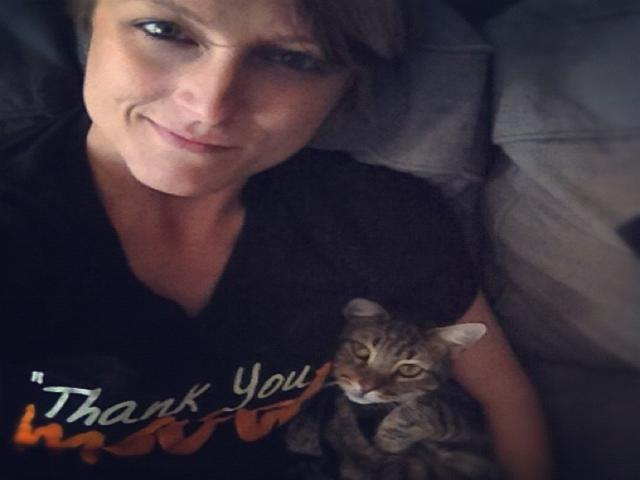Cat: (282, 296, 488, 479)
